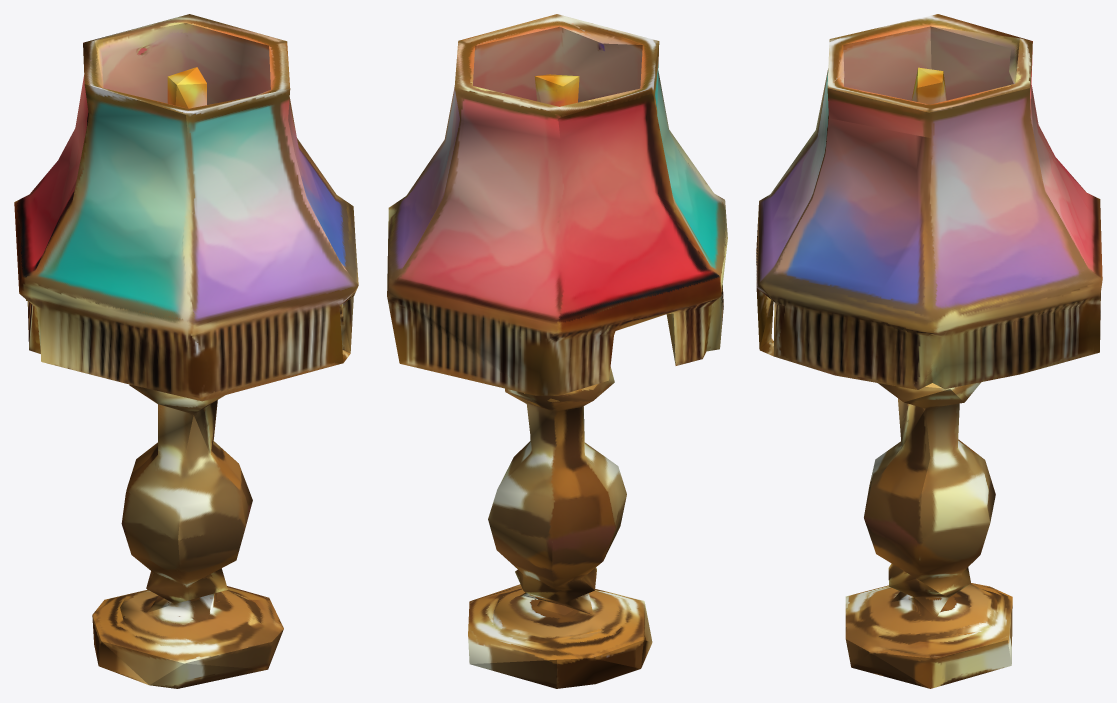
The model's file is rococo-table-lamp.glb.
3 views of the same model, side by side, from view 1: azimuth 30°, elevation 25°; view 2: azimuth 150°, elevation 25°; view 3: azimuth 270°, elevation 25° (orthographic).
Parts seen in each view (by area): view 1: geometry_0.001; view 2: geometry_0.001; view 3: geometry_0.001.
Boxes of the visible parts, box(x1,y1,x2,y2) form: geometry_0.001: box(14, 14, 358, 688); geometry_0.001: box(387, 14, 727, 688); geometry_0.001: box(756, 14, 1102, 688).
Bounding box in the file's own units: 0.5936 × 1 × 0.5354.
1 material, 1 textured.
